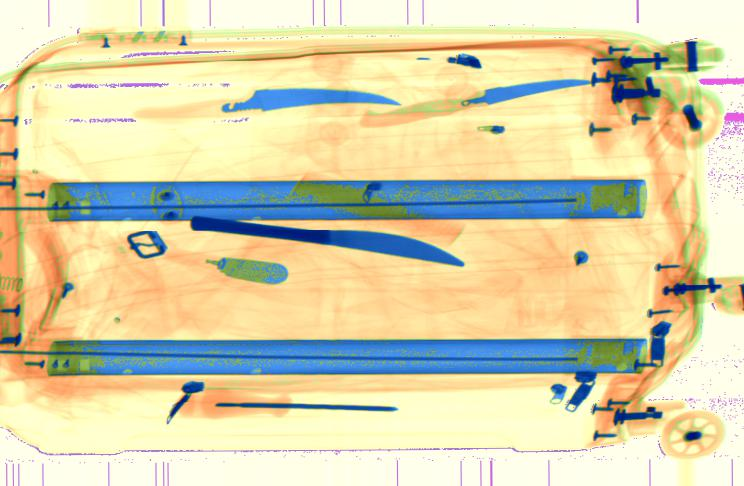Knife: (189, 216, 466, 268), (404, 78, 591, 129), (130, 87, 401, 121), (171, 247, 291, 290)
